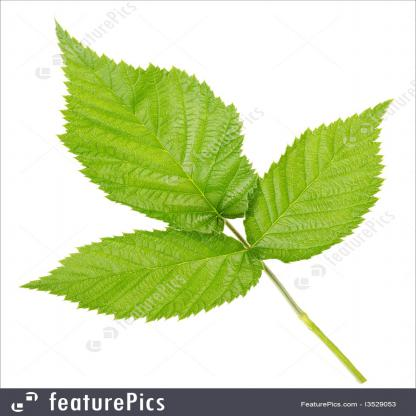raspberry leaf: (50, 18, 260, 232), (244, 95, 397, 265), (19, 229, 262, 321)
